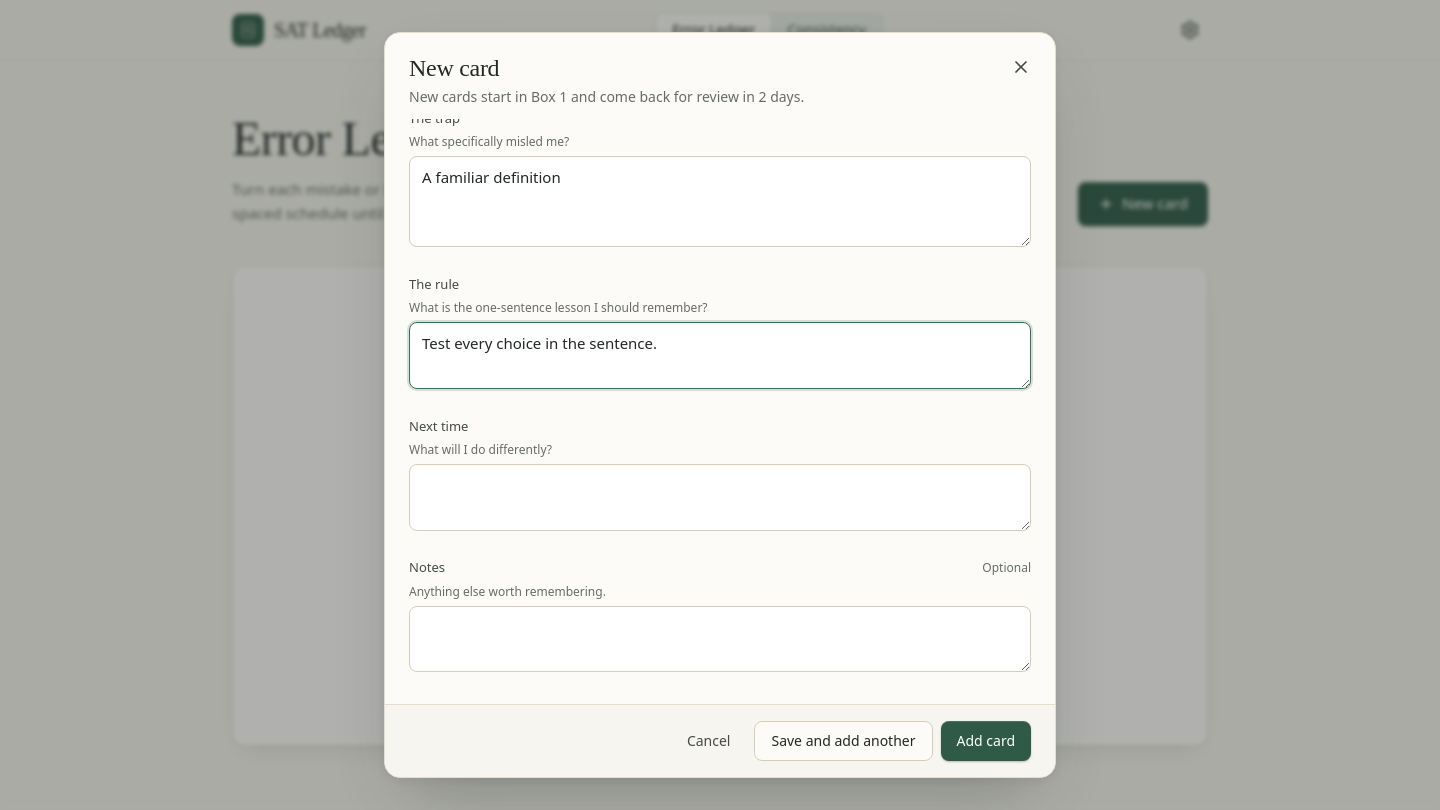
Scenario: Error Ledger: creating cards › keeps the dialog open and the subject when you save and add another
Earlier steps of the test are not shown.
(page scrolled)
Step 1. Type "Substitute before choosing." into the text box labelled "Next time" → (720, 497), box [409,464,1031,531]
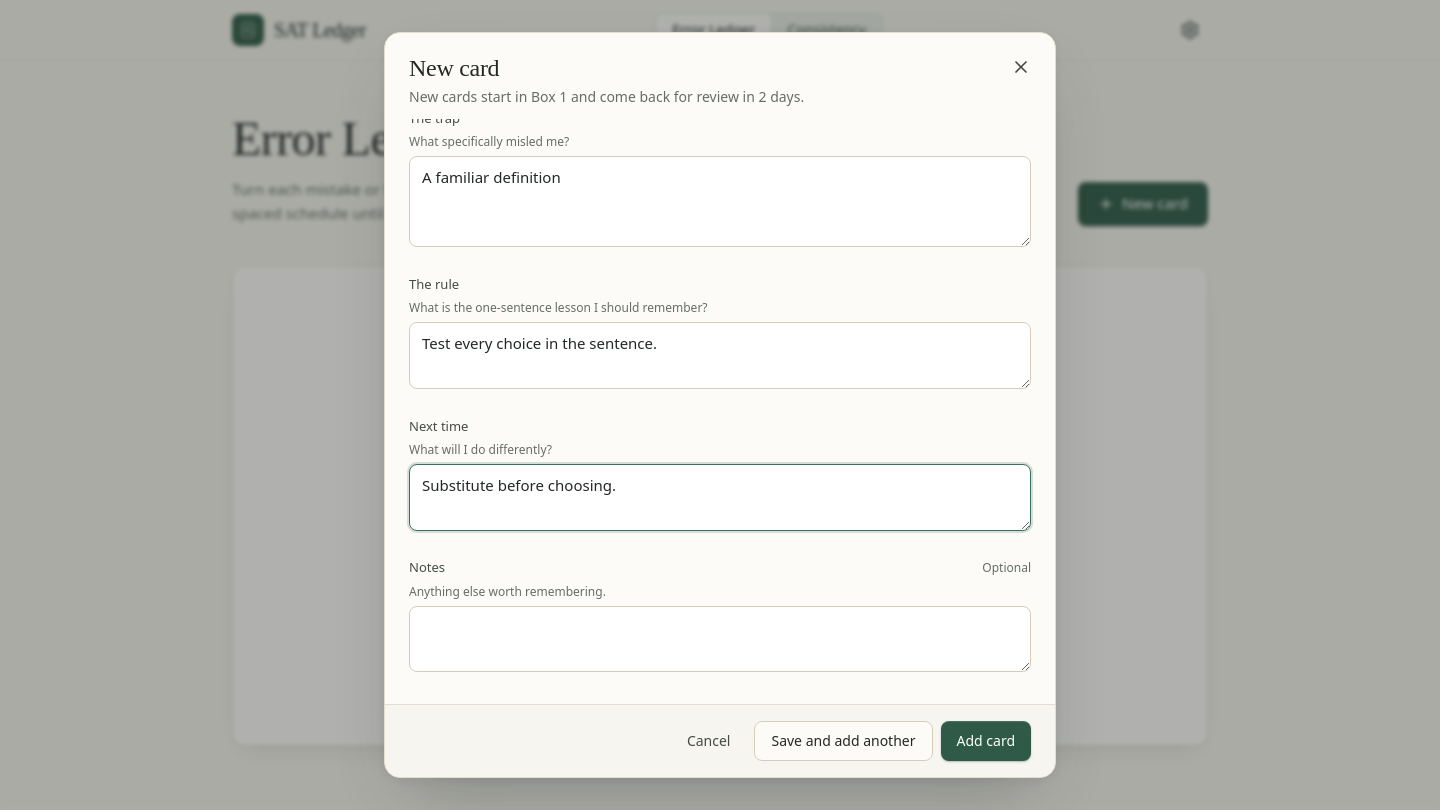
Step 2. Click the button "Save and add another" → (844, 741), box [754,721,932,761]
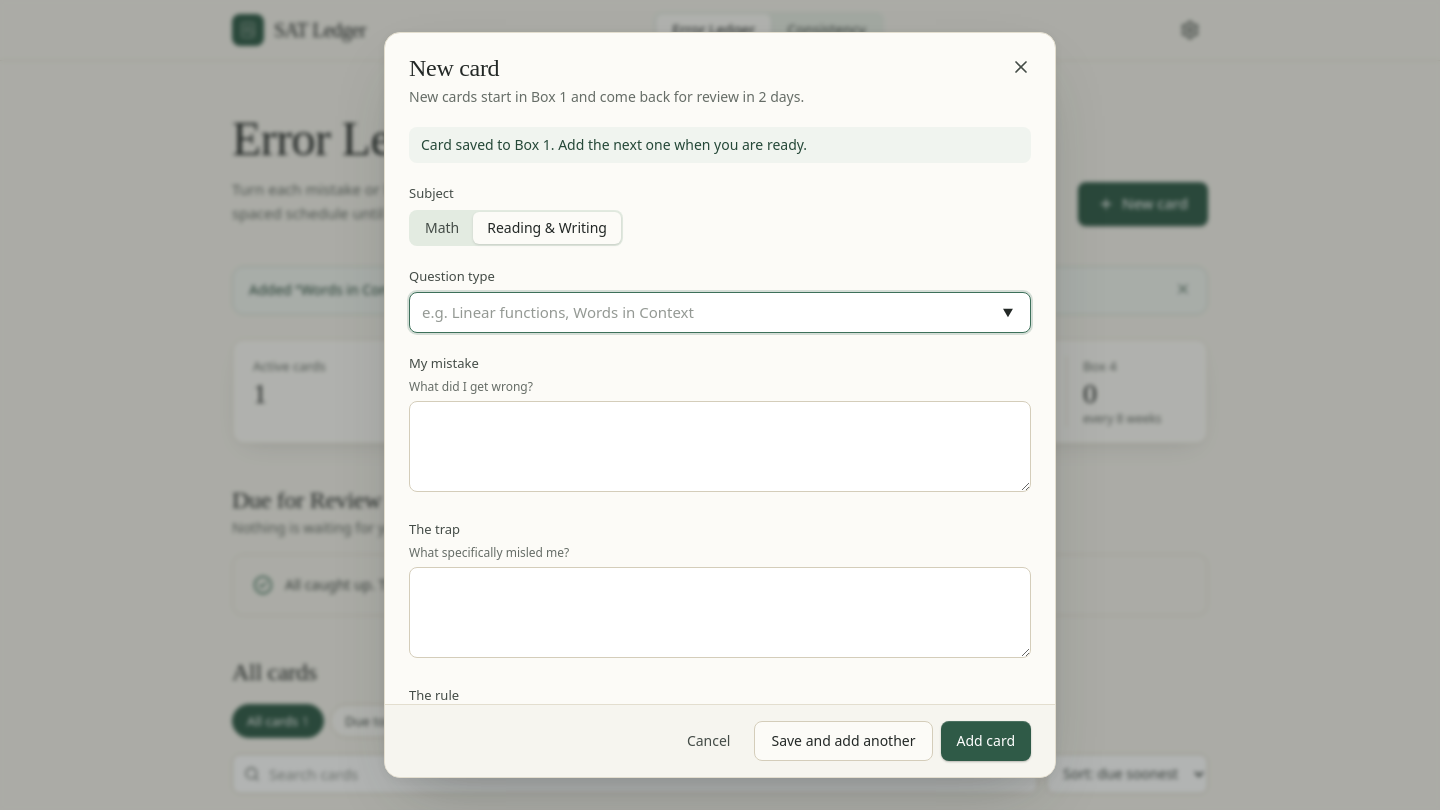
Now the radio button labelled "Reading & Writing" is checked, box [473,212,621,244]
Now the field labelled "Question type" is empty, box [409,292,1031,333]
